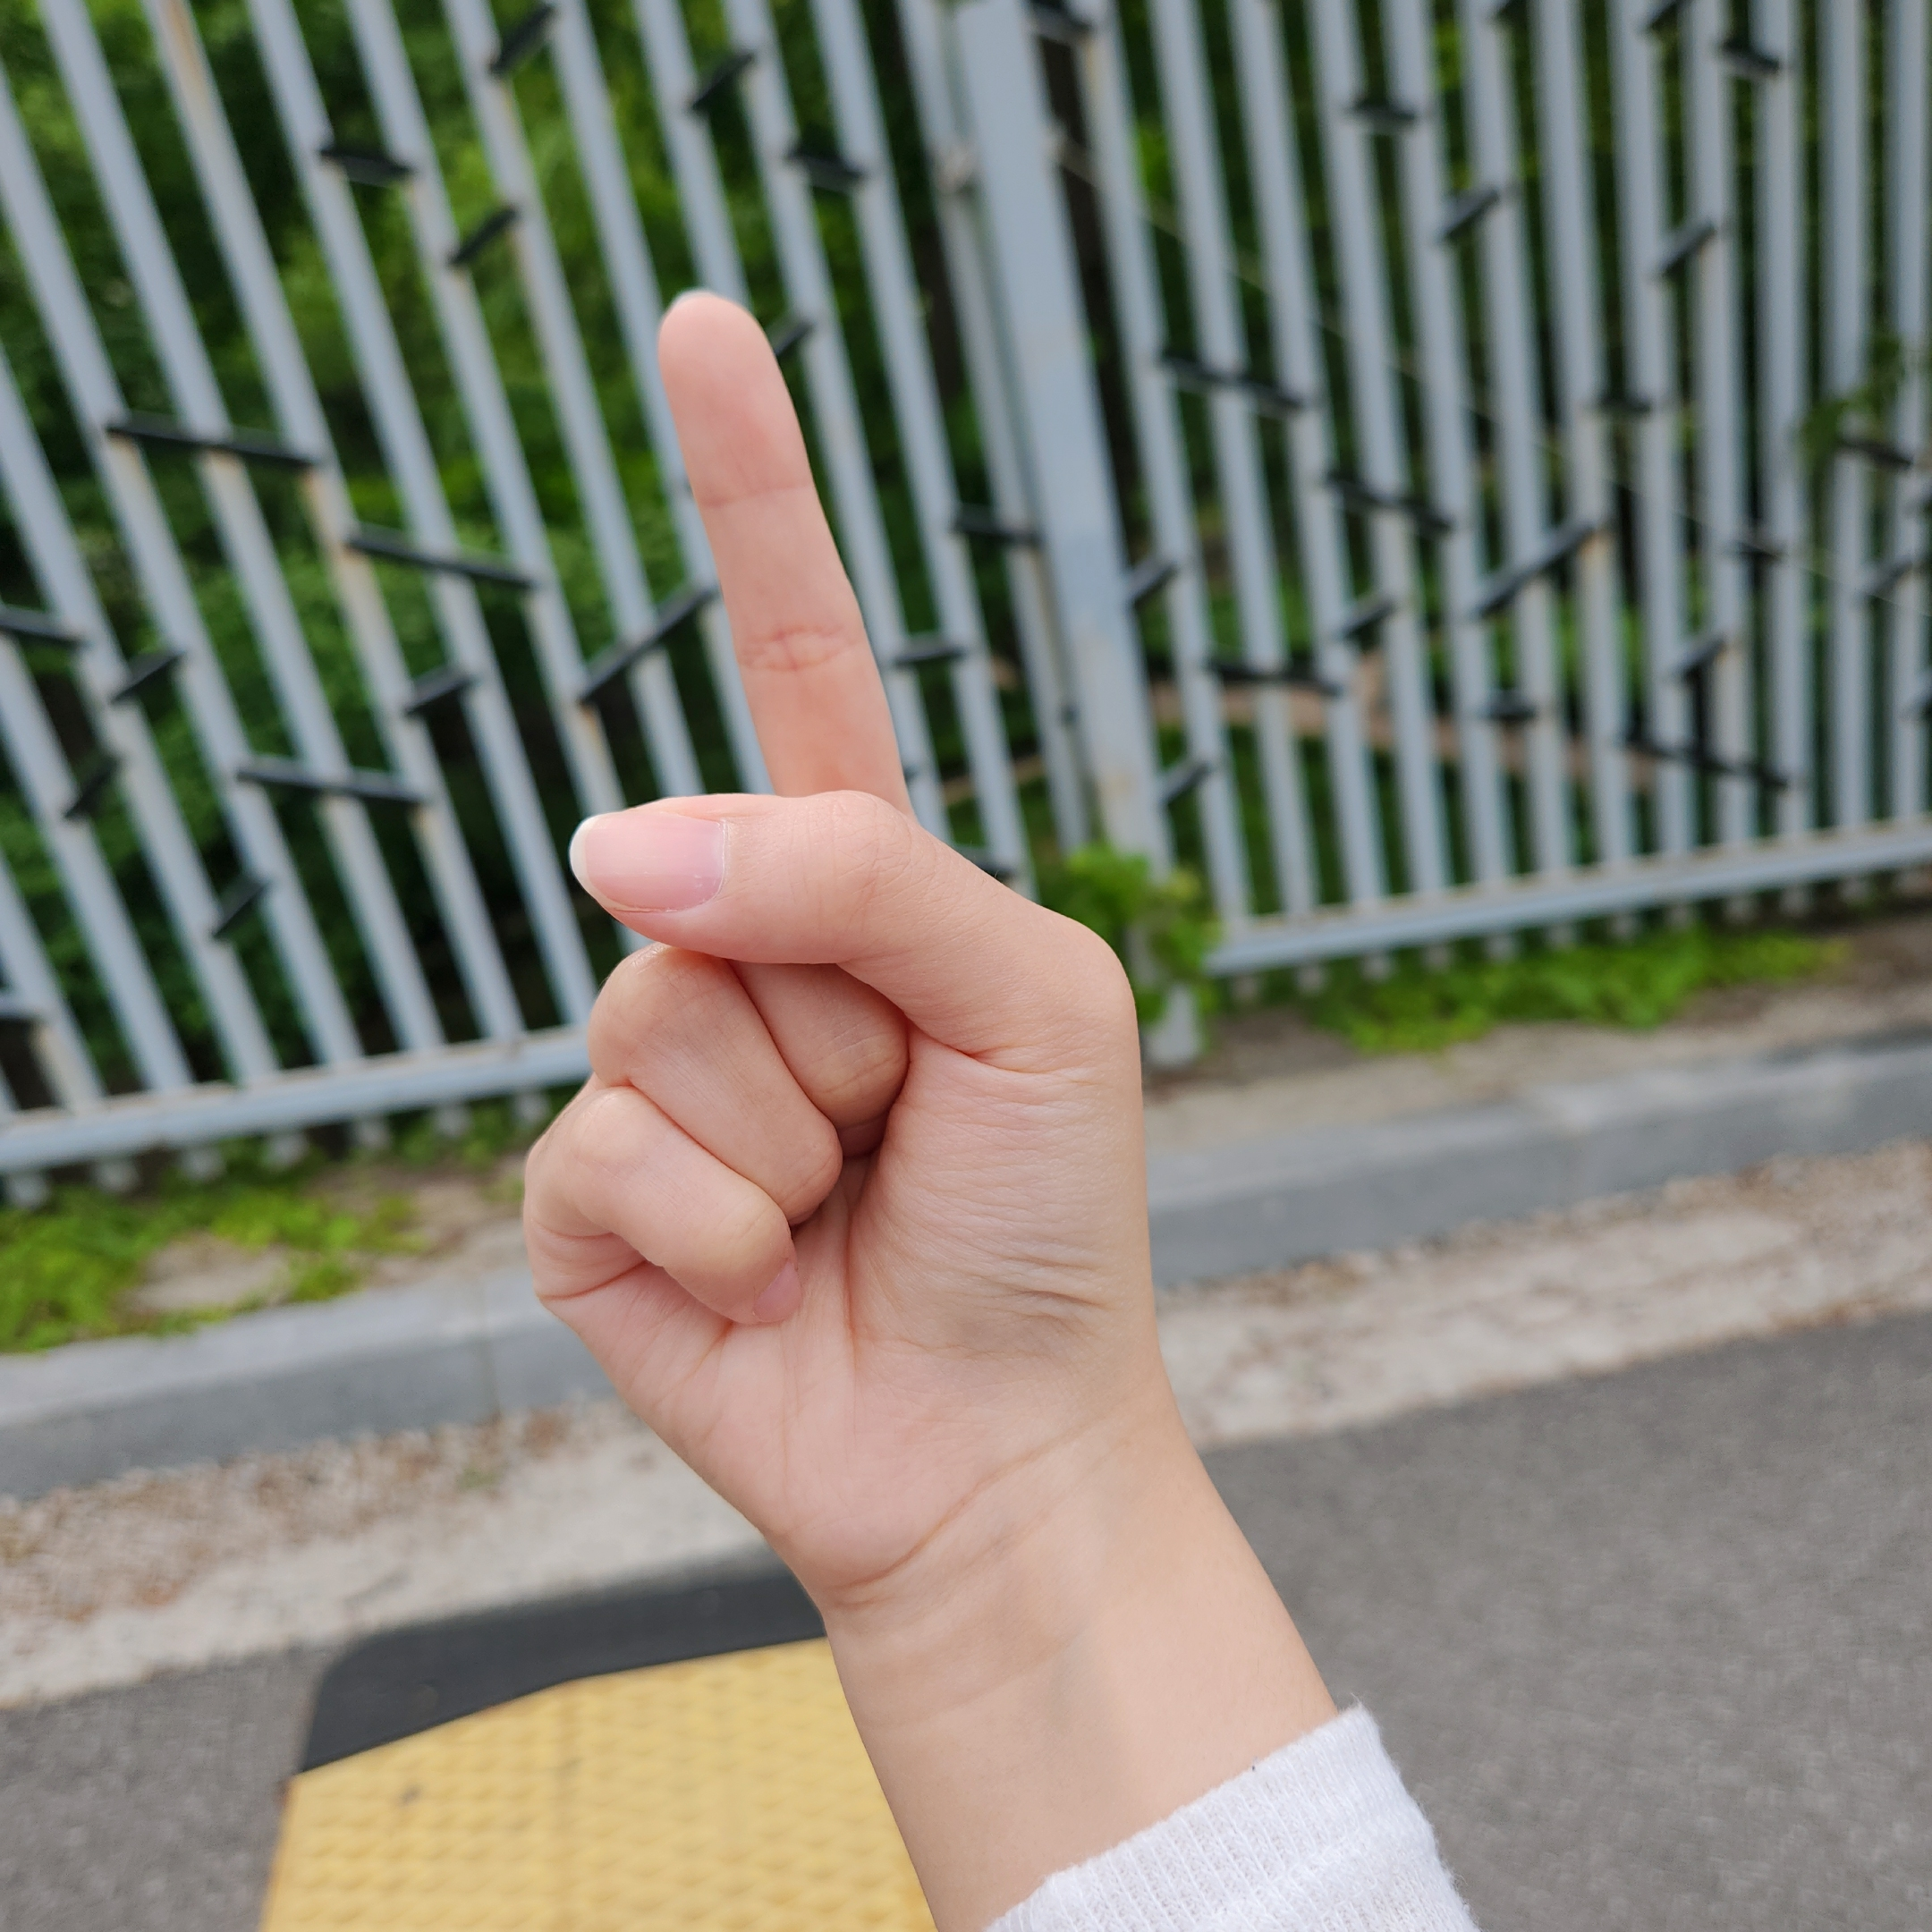what: (517, 288, 1155, 1589)
